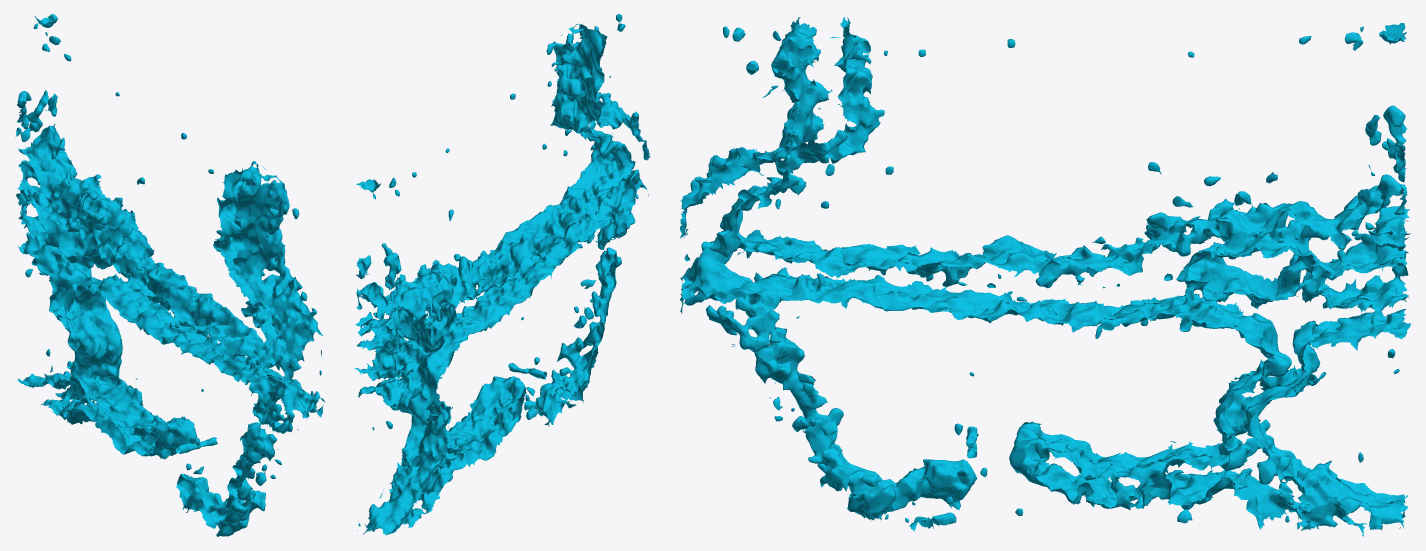
File: image-package-2_dual_contouring.glb
3 views of the same model, side by side, from view 1: azimuth 30°, elevation 25°; view 2: azimuth 150°, elevation 25°; view 3: azimuth 270°, elevation 25° (orthographic). The views are drawn at different scales.
Parts seen in each view (by area): view 1: neuron; view 2: neuron; view 3: neuron.
Part boxes in pixels (x1,y1,x2,y2): neuron: (15,14,325,536); neuron: (354,14,650,535); neuron: (680,17,1410,536).
Bounding box in the file's own units: 35.7 × 291 × 385.
